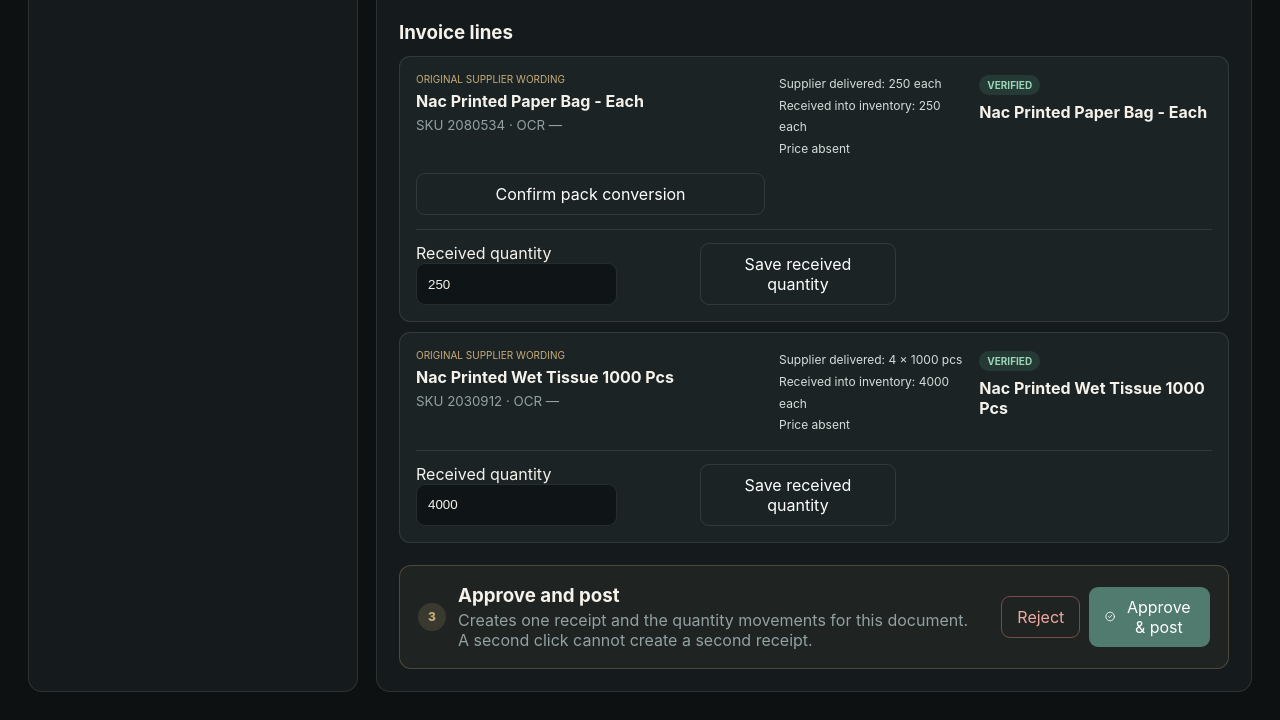
Test: Approve and post result › an aborted request with no receipt shows the error and allows retry
(page scrolled)
Step 1. Click the button "Approve & post" → coordinates (1150, 617), box [1089, 587, 1210, 647]
(page scrolled)
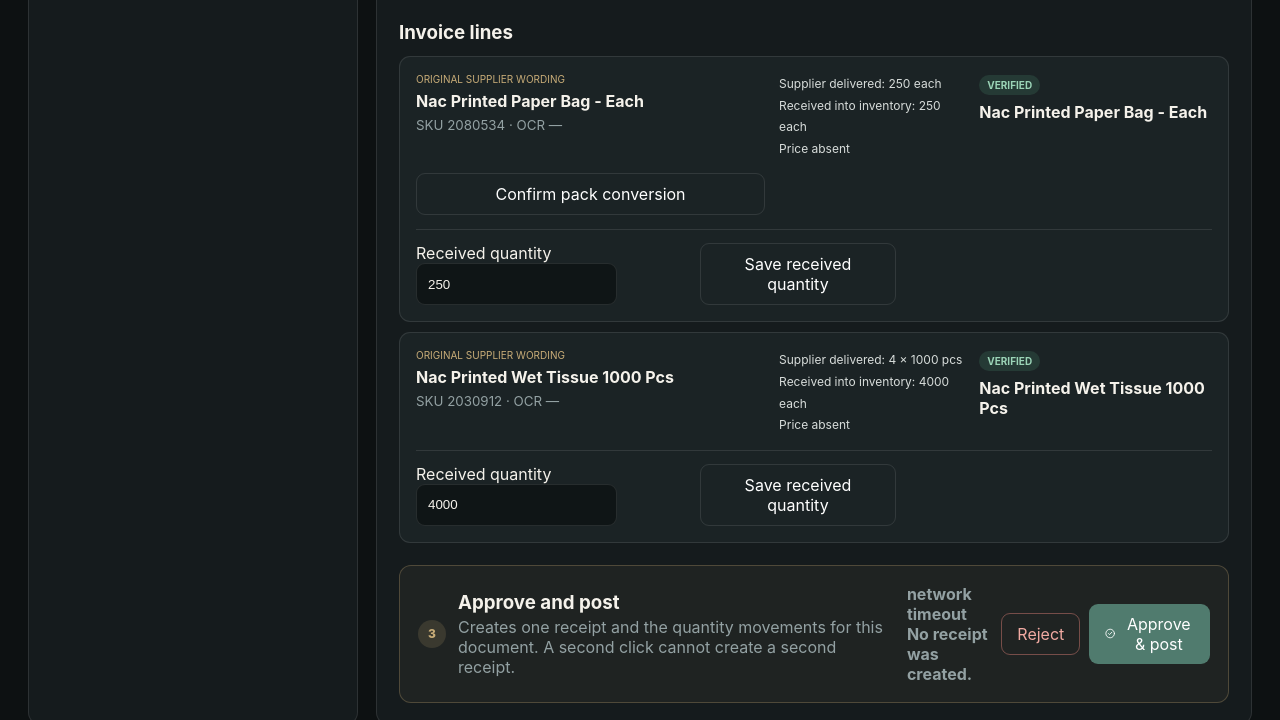
expect the button "Approve & post" is enabled: met, box [1089, 604, 1210, 664]
expect the message shows "No receipt was created": met, box [907, 584, 988, 684]
